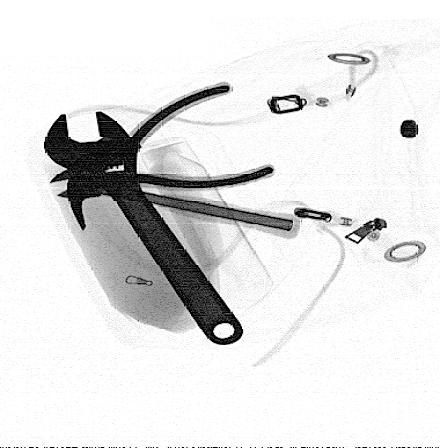Hammer: (68, 153, 299, 240)
Pliers: (39, 79, 275, 202)
Wrench: (43, 108, 246, 345)
